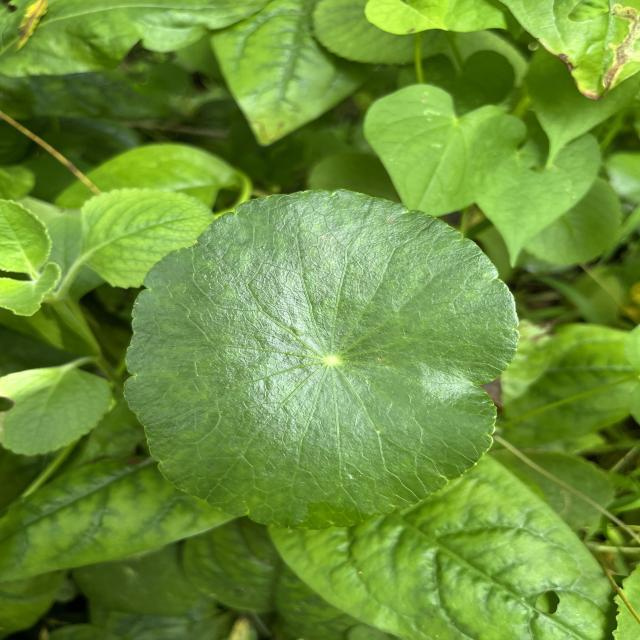Bacopa monnieri: (117, 184, 526, 534)
